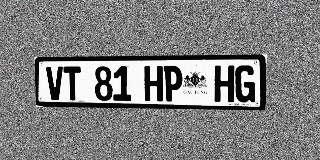1: (113, 66, 131, 101)
8: (94, 66, 113, 101)
G: (235, 65, 256, 102)
H: (214, 65, 235, 102), (144, 66, 163, 101)
P: (163, 66, 182, 101)
T: (63, 66, 81, 100)
V: (46, 66, 64, 100)
